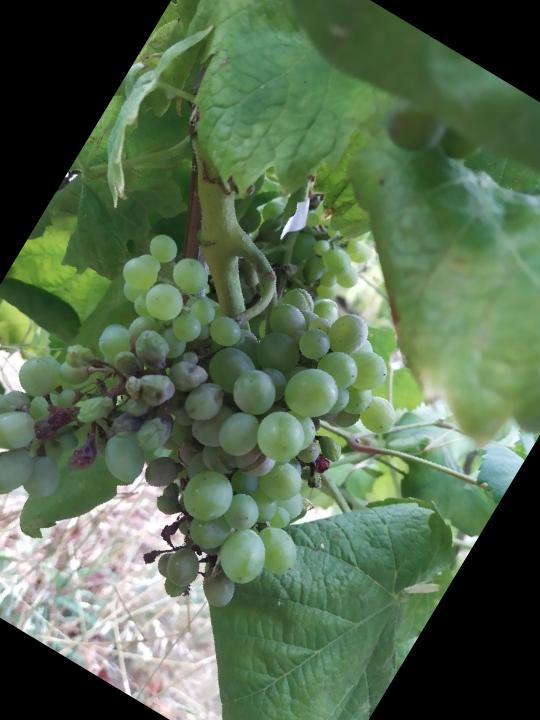grape: (0, 164, 437, 657)
